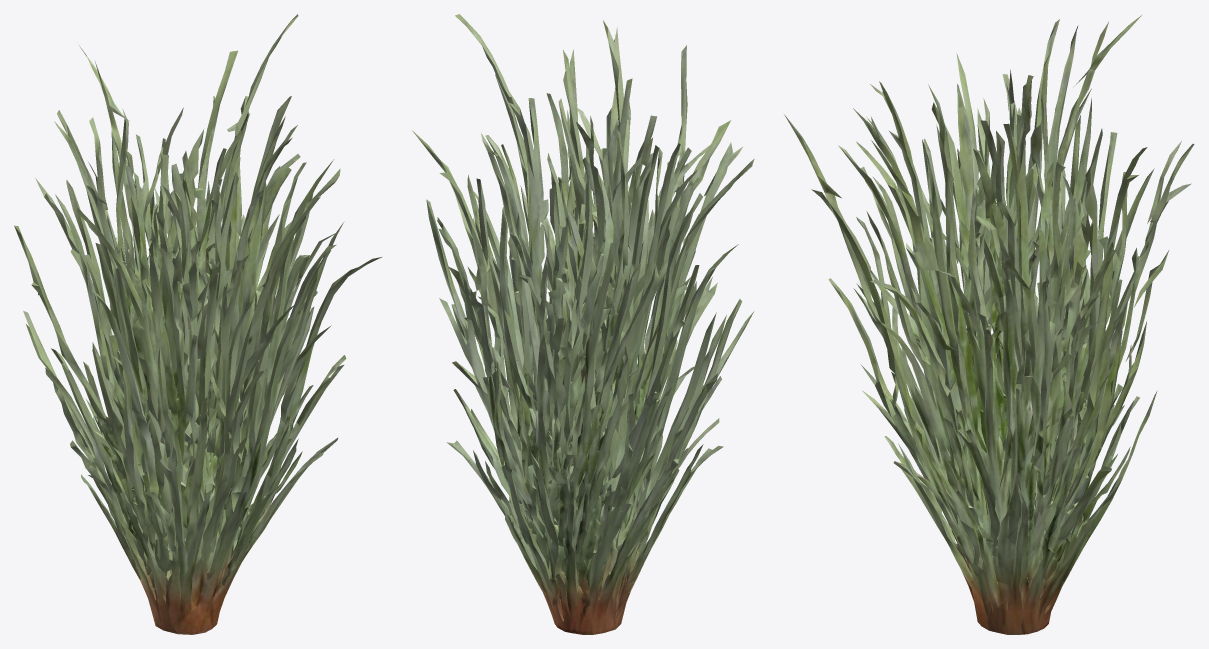
The model's file is lux-bear-grass.glb.
The picture shows the model from 3 angles, left to right: view 1: azimuth 30°, elevation 25°; view 2: azimuth 150°, elevation 25°; view 3: azimuth 270°, elevation 25°; orthographic projection. The views are drawn at different scales.
Parts seen in each view (by area): view 1: geometry_0; view 2: geometry_0; view 3: geometry_0.
Boxes of the visible parts, left/top/right/bottom form: geometry_0: left=14, top=14, right=381, bottom=634; geometry_0: left=412, top=14, right=754, bottom=634; geometry_0: left=784, top=15, right=1194, bottom=634.
Bounding box in the file's own units: 0.4309 × 0.8 × 0.4908.
1 material, 1 textured.
